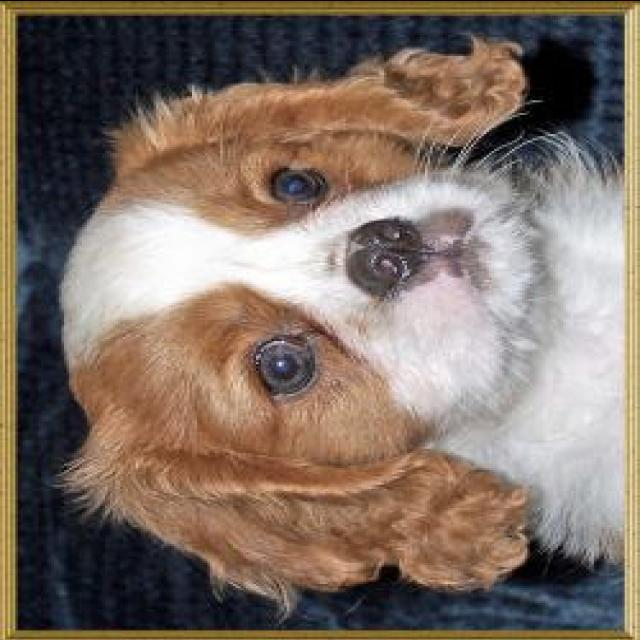blenheim_spaniel: (38, 32, 638, 612)
